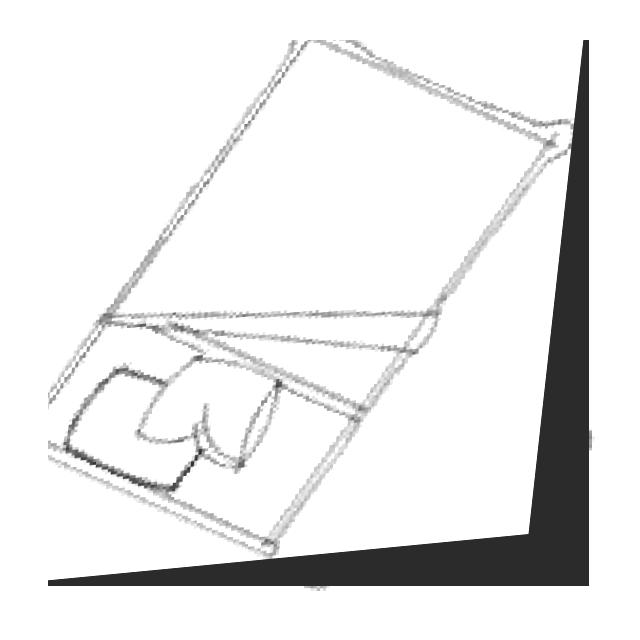bed: (48, 40, 589, 586)
